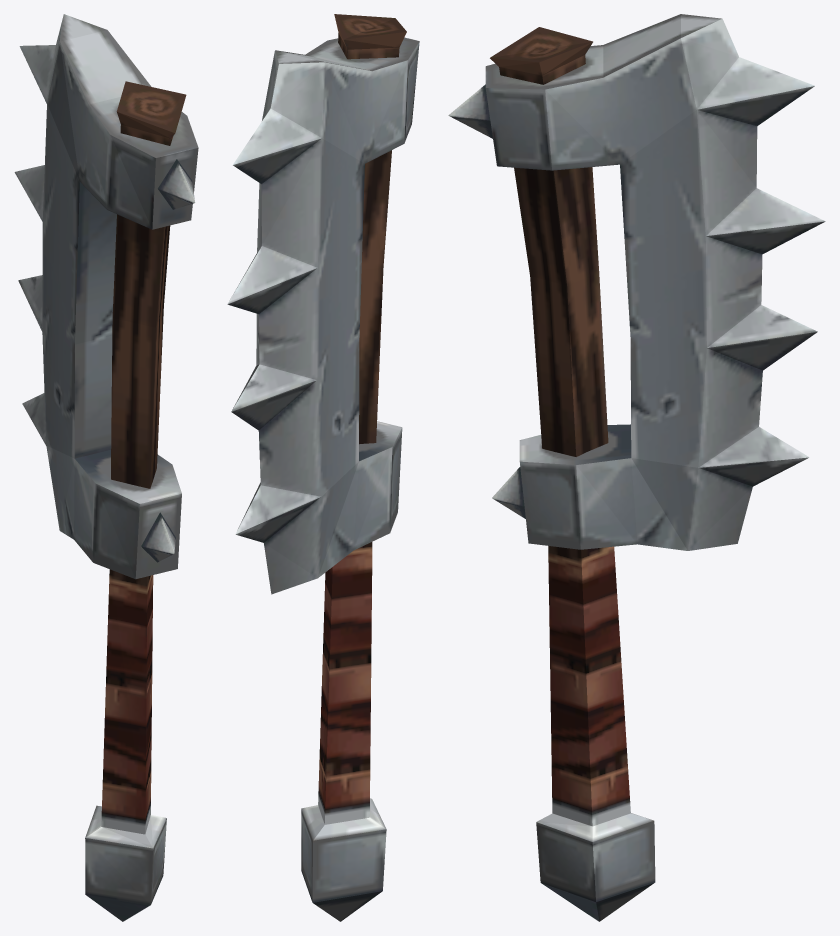
Rendered from cleaver01.fbx.
The picture shows the model from 3 angles, left to right: view 1: azimuth 30°, elevation 25°; view 2: azimuth 150°, elevation 25°; view 3: azimuth 270°, elevation 25°; orthographic projection. The views are drawn at different scales.
Parts seen in each view (by area): view 1: obj0; view 2: obj0; view 3: obj0.
Boxes of the visible parts, x1,y1,x2,y2 form: obj0: [14, 14, 198, 921]; obj0: [227, 14, 419, 921]; obj0: [448, 14, 825, 921].
Size of the model in its own units: 0.169 by 1.71 by 0.6469.
